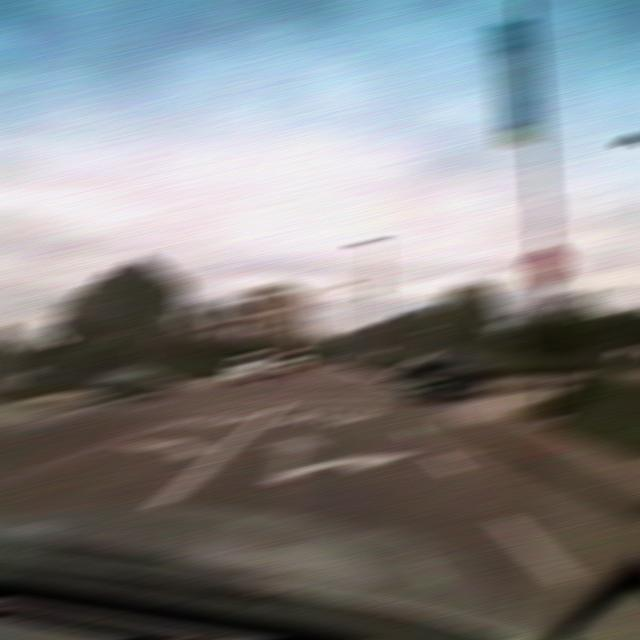stop_sign: (524, 246, 568, 288)
